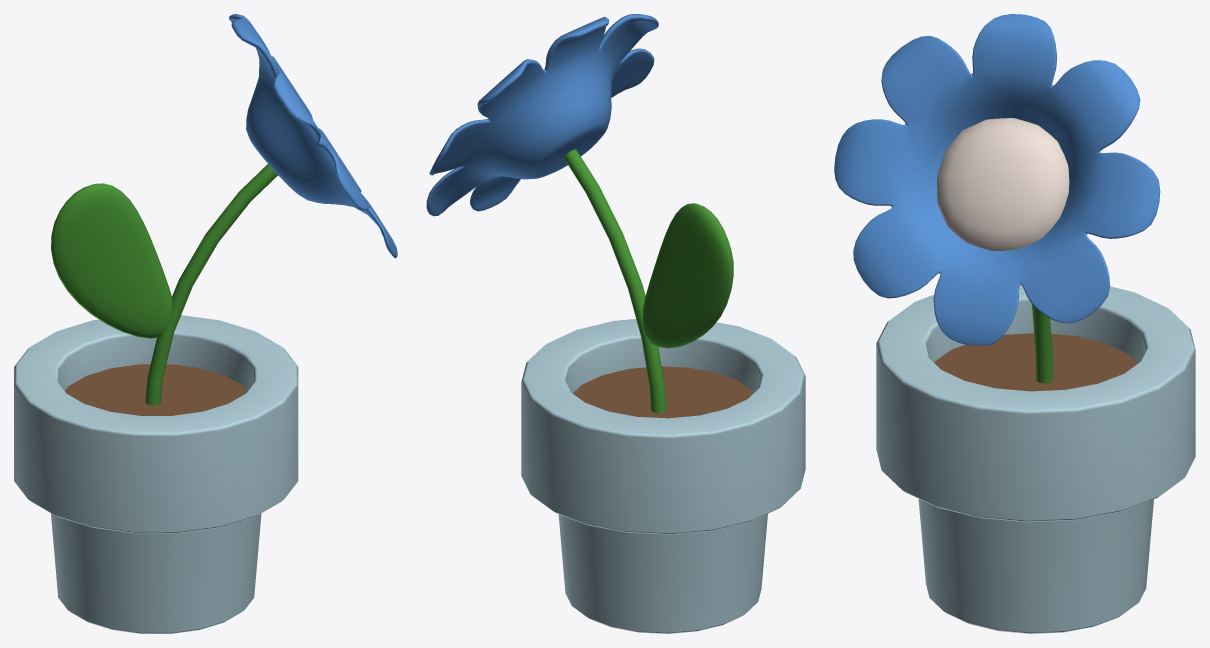
File: Flower_9.glb
3 renders of one model, left to right at view 1: azimuth 30°, elevation 25°; view 2: azimuth 150°, elevation 25°; view 3: azimuth 270°, elevation 25°, orthographic. The views are drawn at different scales.
Visible parts, largest first — view 1: Flower_8; view 2: Flower_8; view 3: Flower_8.
Boxes of the visible parts, x1,y1,x2,y2 form: Flower_8: [14, 14, 397, 633]; Flower_8: [426, 14, 805, 633]; Flower_8: [834, 14, 1195, 633].
Bounding box in the file's own units: 0.4021 × 0.6298 × 0.3353.
Materials: 1 (1 with a texture image).
